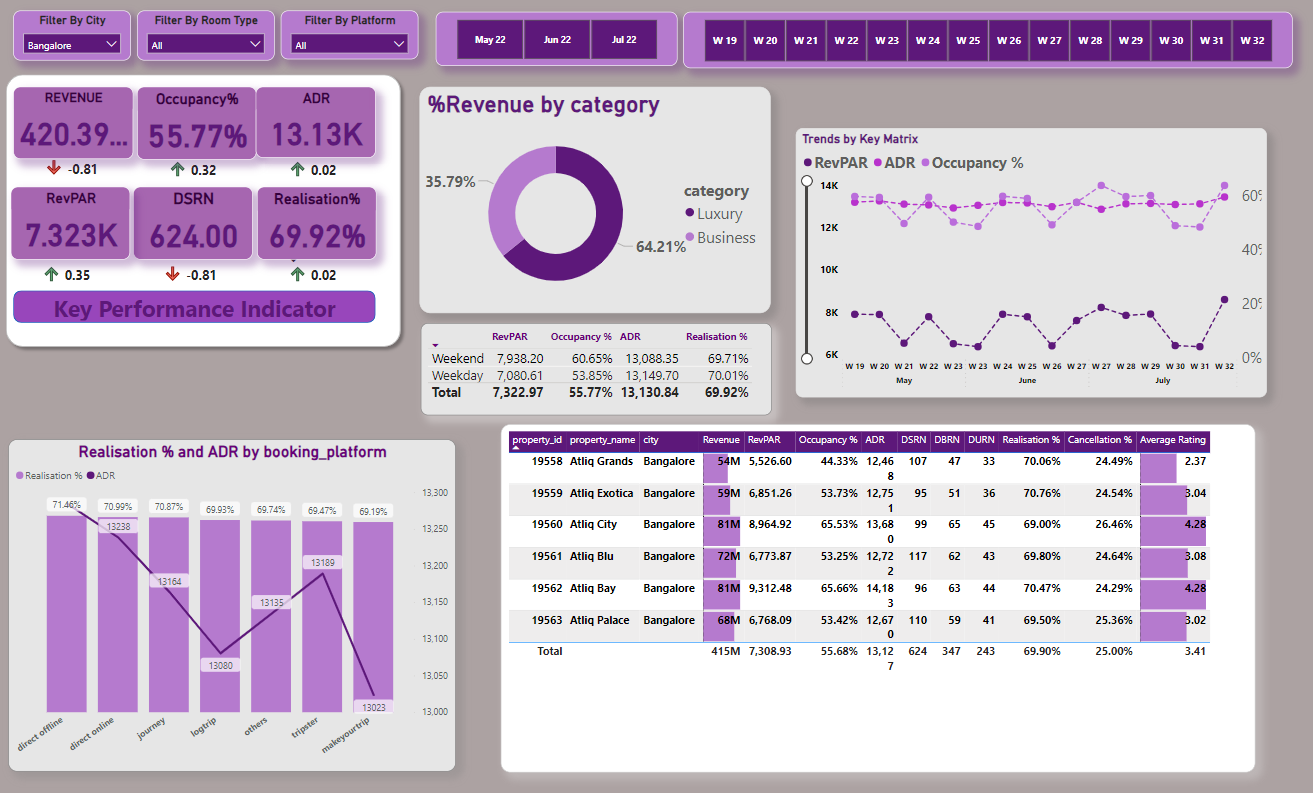

Layout of this report page (visuals, bound fields, positions):
{"tool":"powerbi","page":{"name":"home","canvas":[1800,1100],"ordinal":0},"visuals":[{"type":"tableEx","fields":{"Values":["dim_hotels.property_id","dim_hotels.property_name","dim_hotels.city","key_measure.Revenue","key_measure.RevPAR","key_measure.Occupancy %","key_measure.ADR","key_measure.DSRN","key_measure.DBRN","key_measure.DURN","key_measure.Realisation %","key_measure.Cancellation %"]},"box":[685.7,585.7,1026.8,473.2],"z":0},{"type":"shape","title":"KEY P","box":[3.4,102,554.3,387.6],"z":1000},{"type":"tableEx","fields":{"Values":["key_measure.Revenue WoW change %"]},"box":[55.4,192.5,95.7,68.6],"z":2000},{"type":"card","title":"REVENUE","fields":{"Values":["key_measure.Revenue"]},"box":[21.8,126.8,162.9,98.6],"z":3000},{"type":"tableEx","fields":{"Values":["key_measure.Occupancy WoW change %"]},"box":[224.9,193,95.2,69.1],"z":4000},{"type":"tableEx","fields":{"Values":["key_measure.ADR WoW change %"]},"box":[387.6,193,112.4,70.8],"z":5000},{"type":"tableEx","fields":{"Values":["key_measure.Revenue WoW change %"]},"box":[217.3,336.7,95.3,68.5],"z":6000},{"type":"tableEx","fields":{"Values":["key_measure.Realisation WoW change %"]},"box":[387.6,336.9,91,68.5],"z":7000},{"type":"tableEx","fields":{"Values":["key_measure.Revpar WoW change %"]},"box":[52.9,336.7,95.3,68.5],"z":8000},{"type":"card","title":"Occupancy%","fields":{"Values":["key_measure.Occupancy %"]},"box":[191.3,127.7,162.5,99],"z":9000},{"type":"card","title":"ADR","fields":{"Values":["key_measure.ADR"]},"box":[351.9,127.5,163.2,96.9],"z":10000},{"type":"card","title":"DSRN","fields":{"Values":["key_measure.DSRN"]},"box":[186.1,263,162.6,99],"z":11000},{"type":"card","title":"RevPAR","fields":{"Values":["key_measure.RevPAR"]},"box":[19.3,263,162.6,99],"z":12000},{"type":"card","title":"Realisation%","fields":{"Values":["key_measure.Realisation %"]},"box":[354.1,264.1,162.5,99],"z":13000},{"type":"slicer","title":"Filter By City","fields":{"Values":["dim_hotels.city"]},"box":[22.1,23.8,159.8,68],"z":14000},{"type":"slicer","title":"Filter By Room Type","fields":{"Values":["dim_rooms.room_class"]},"box":[190.4,23.8,187,68],"z":15000},{"type":"slicer","fields":{"Values":["dim_date.mmm yy"]},"box":[596.4,25,328.6,73.2],"z":16000},{"type":"slicer","title":"Filter By Week","fields":{"Values":["dim_date.week no"]},"box":[933.9,25,828.6,76.8],"z":17000},{"type":"donutChart","title":"%Revenue by category","fields":{"Category":["dim_hotels.category"],"Y":["key_measure.Revenue"]},"box":[574.7,127.5,477.7,307.7],"z":18000},{"type":"lineChart","title":"Trends by Key Matrix","fields":{"Category":["dim_date.mmm yy.Variation.Date Hierarchy.Month","dim_date.week no"],"Y":["key_measure.RevPAR","key_measure.ADR"],"Y2":["key_measure.Occupancy %"]},"box":[1085.7,183.9,641.1,366.1],"z":19000},{"type":"lineStackedColumnComboChart","fields":{"Category":["fact_bookings.booking_platform"],"Y":["key_measure.Realisation %"],"Y2":["key_measure.ADR"]},"box":[16.1,607.1,608.9,451.8],"z":20000},{"type":"tableEx","fields":{"Values":["dim_date.day_type","key_measure.RevPAR","key_measure.Occupancy %","key_measure.ADR","key_measure.Realisation %"]},"box":[576.4,448.8,477.7,125.8],"z":21000},{"type":"slicer","title":"Filter By Platform","fields":{"Values":["fact_bookings.booking_platform"]},"box":[385.9,23.8,187,66.3],"z":22000},{"type":"shape","box":[22.1,404.6,493,44.2],"z":23000}]}

Visuals, with their boxes in screenshot pixels (x1, y1, x2, y2), scaled from the page's 1800x1100 canvas onto the 1313x793 screenshot:
tableEx - dim_hotels.property_id x dim_hotels.property_name: 500, 422, 1249, 763
"KEY P" shape: 2, 74, 407, 353
tableEx - key_measure.Revenue WoW change %: 40, 139, 110, 188
"REVENUE" card: 16, 91, 135, 162
tableEx - key_measure.Occupancy WoW change %: 164, 139, 233, 189
tableEx - key_measure.ADR WoW change %: 283, 139, 365, 190
tableEx - key_measure.Revenue WoW change %: 159, 243, 228, 292
tableEx - key_measure.Realisation WoW change %: 283, 243, 349, 292
tableEx - key_measure.Revpar WoW change %: 39, 243, 108, 292
"Occupancy%" card: 140, 92, 258, 163
"ADR" card: 257, 92, 376, 162
"DSRN" card: 136, 190, 254, 261
"RevPAR" card: 14, 190, 133, 261
"Realisation%" card: 258, 190, 377, 262
"Filter By City" slicer: 16, 17, 133, 66
"Filter By Room Type" slicer: 139, 17, 275, 66
slicer - dim_date.mmm yy: 435, 18, 675, 71
"Filter By Week" slicer: 681, 18, 1286, 73
"%Revenue by category" donutChart: 419, 92, 768, 314
"Trends by Key Matrix" lineChart: 792, 133, 1260, 396
lineStackedColumnComboChart - fact_bookings.booking_platform x key_measure.Realisation %: 12, 438, 456, 763
tableEx - dim_date.day_type x key_measure.RevPAR: 420, 324, 769, 414
"Filter By Platform" slicer: 281, 17, 418, 65
shape: 16, 292, 376, 324
